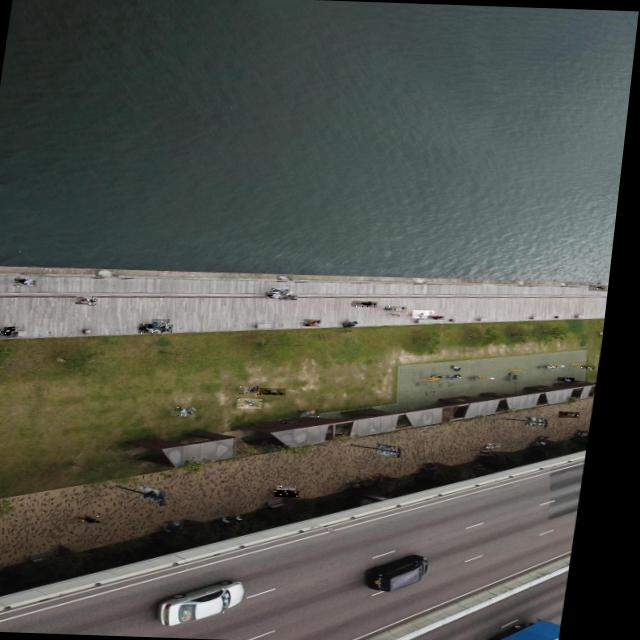Person: (156, 318, 176, 332), (87, 514, 113, 524), (244, 398, 270, 408), (18, 277, 43, 287), (144, 322, 165, 333), (180, 406, 203, 416), (267, 388, 294, 396), (284, 490, 309, 498), (243, 386, 266, 394), (357, 300, 383, 307), (81, 296, 103, 304), (306, 408, 328, 416), (271, 291, 293, 299), (419, 310, 440, 318), (594, 284, 614, 292), (566, 411, 588, 418), (308, 318, 327, 326), (10, 326, 25, 336), (272, 287, 296, 293), (390, 306, 413, 312), (284, 294, 303, 301), (286, 484, 306, 490), (433, 314, 450, 320), (565, 376, 582, 382), (168, 324, 179, 332), (451, 374, 468, 379), (394, 312, 408, 318), (283, 291, 298, 296), (588, 365, 603, 369), (496, 443, 510, 447), (417, 314, 429, 318), (493, 446, 506, 448), (554, 366, 566, 368)
